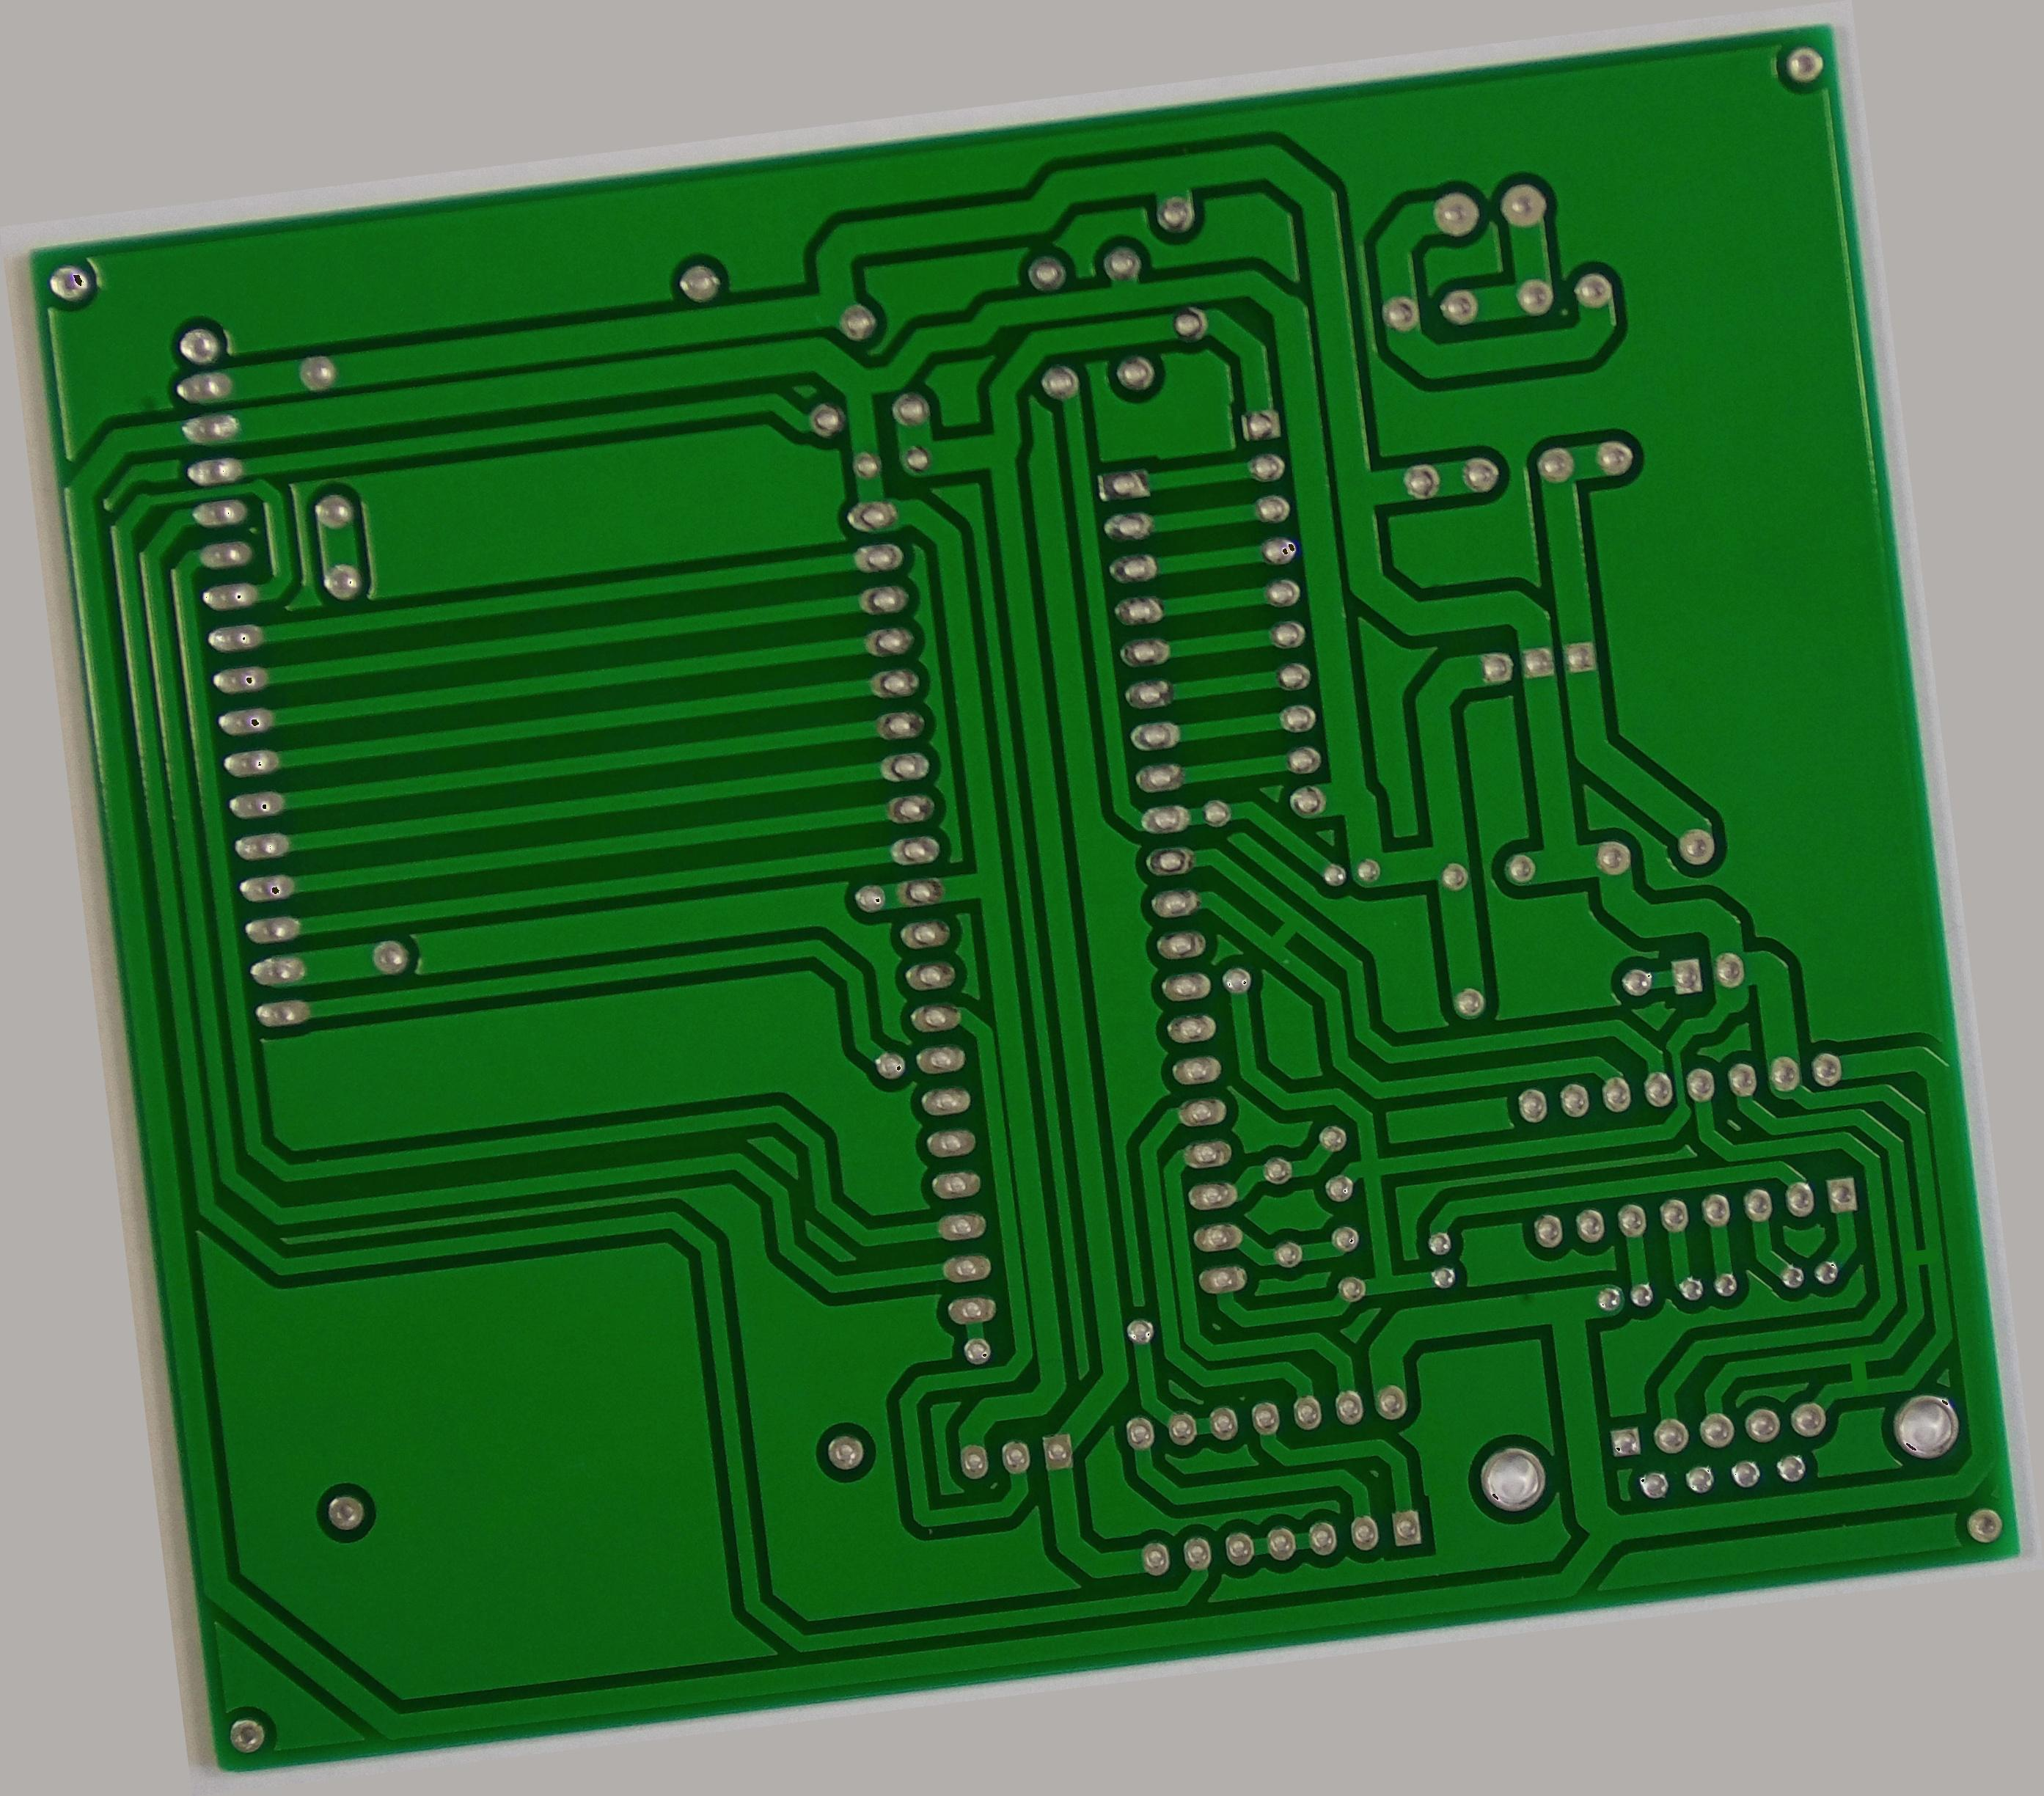short: (1825, 1339, 1889, 1400), (1250, 904, 1316, 963), (1896, 1233, 1945, 1278)
